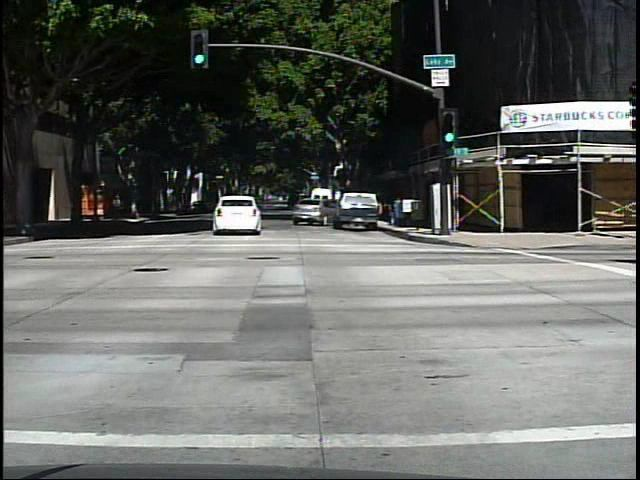person: (109, 191, 125, 222)
